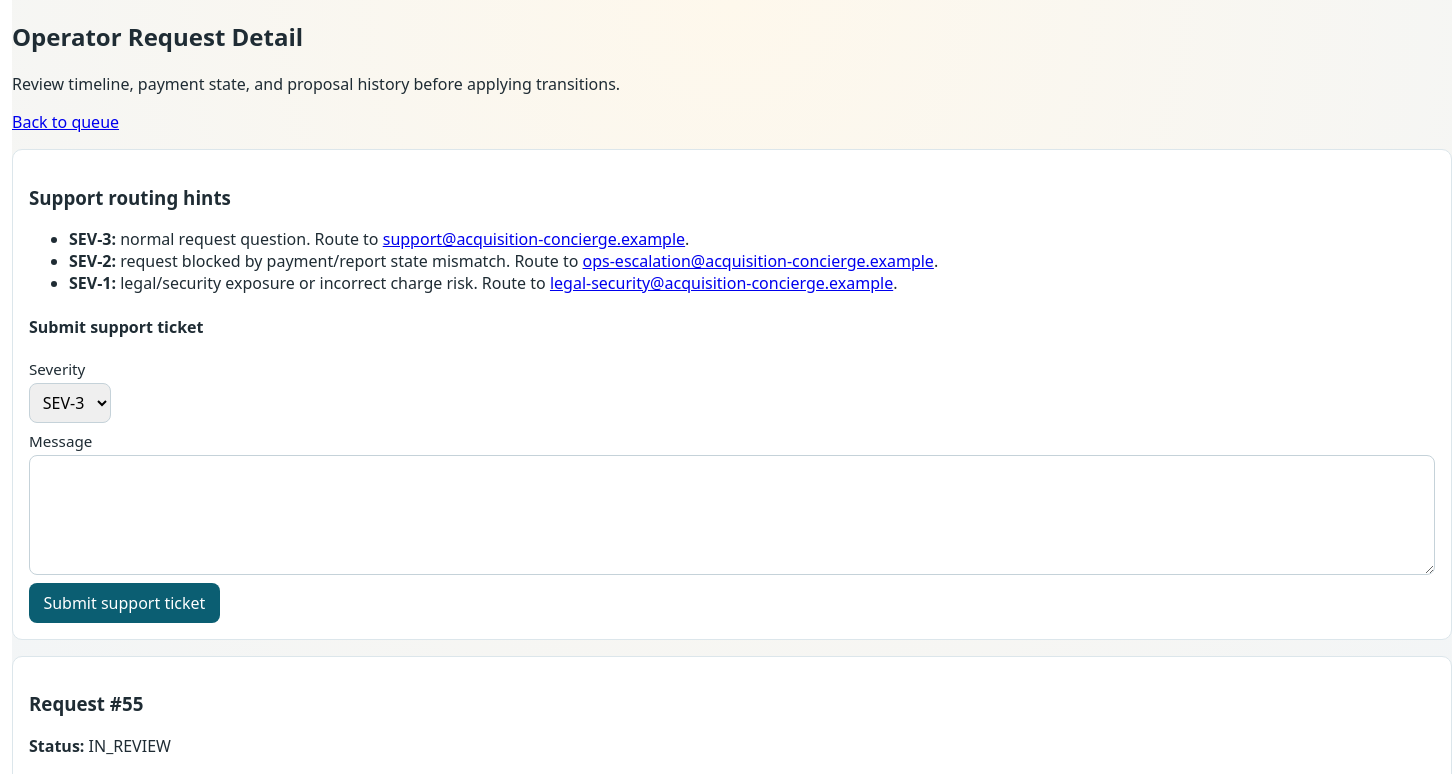
Test: OperatorRequestDetailPage › submits support ticket from operator detail and renders success copy
Expected: the heading "Request #55" is shown, [29,692,143,716]
Select "SEV-2" in the dropdown labelled "Severity": (70, 403) [29,383,111,423]
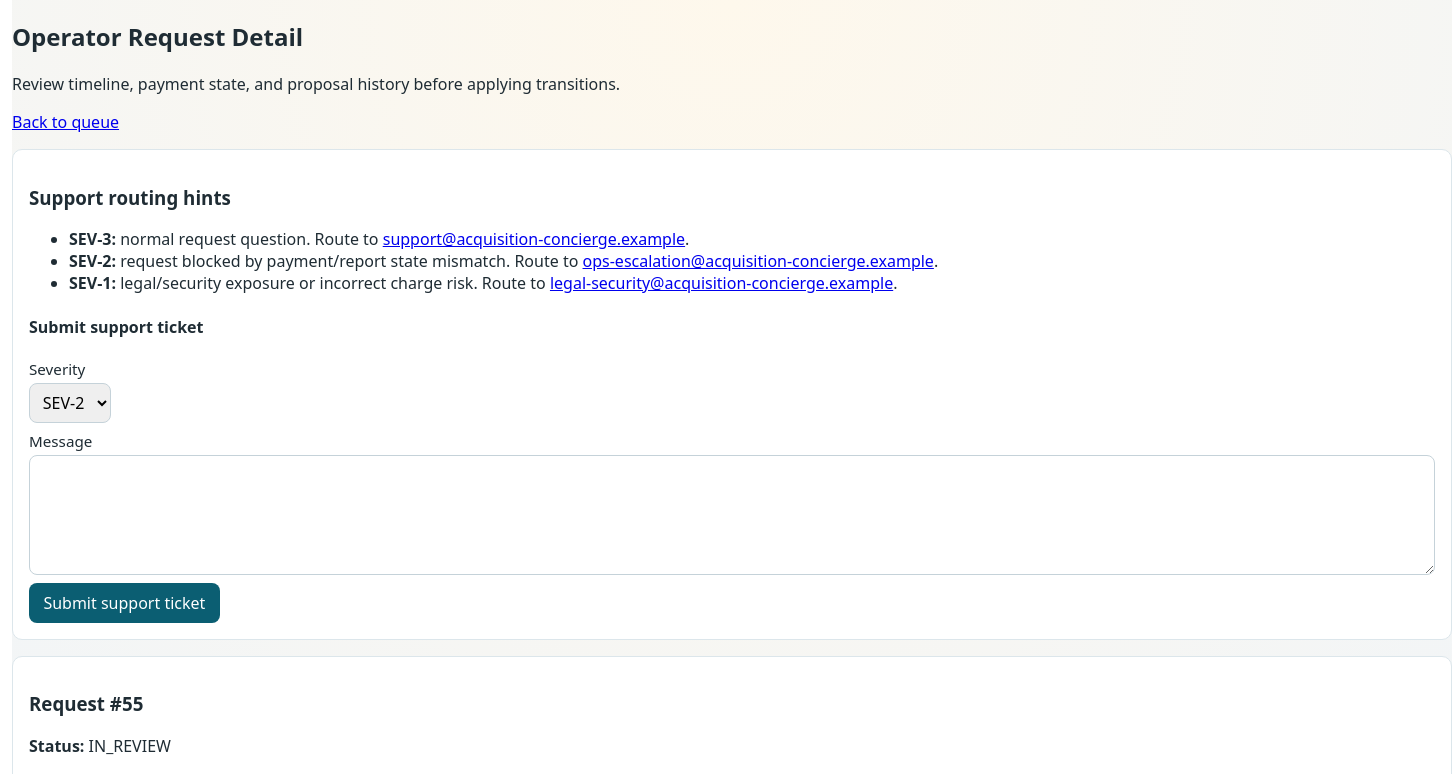
In the text box labelled "Message": (732, 515) [29,455,1435,575], type "Payment status and report delivery state are inconsistent in detail view."
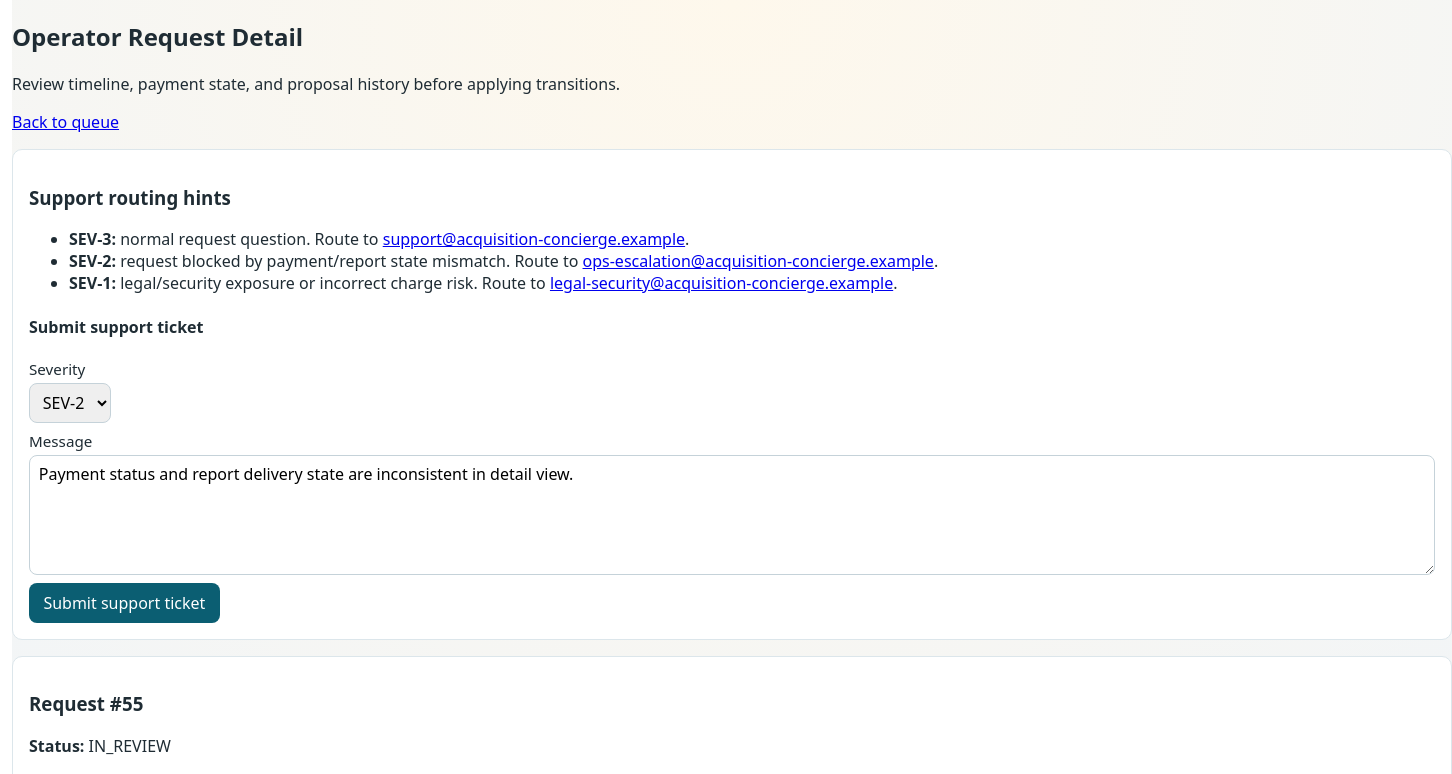
Click the button "Submit support ticket": (124, 603) [29,583,220,623]
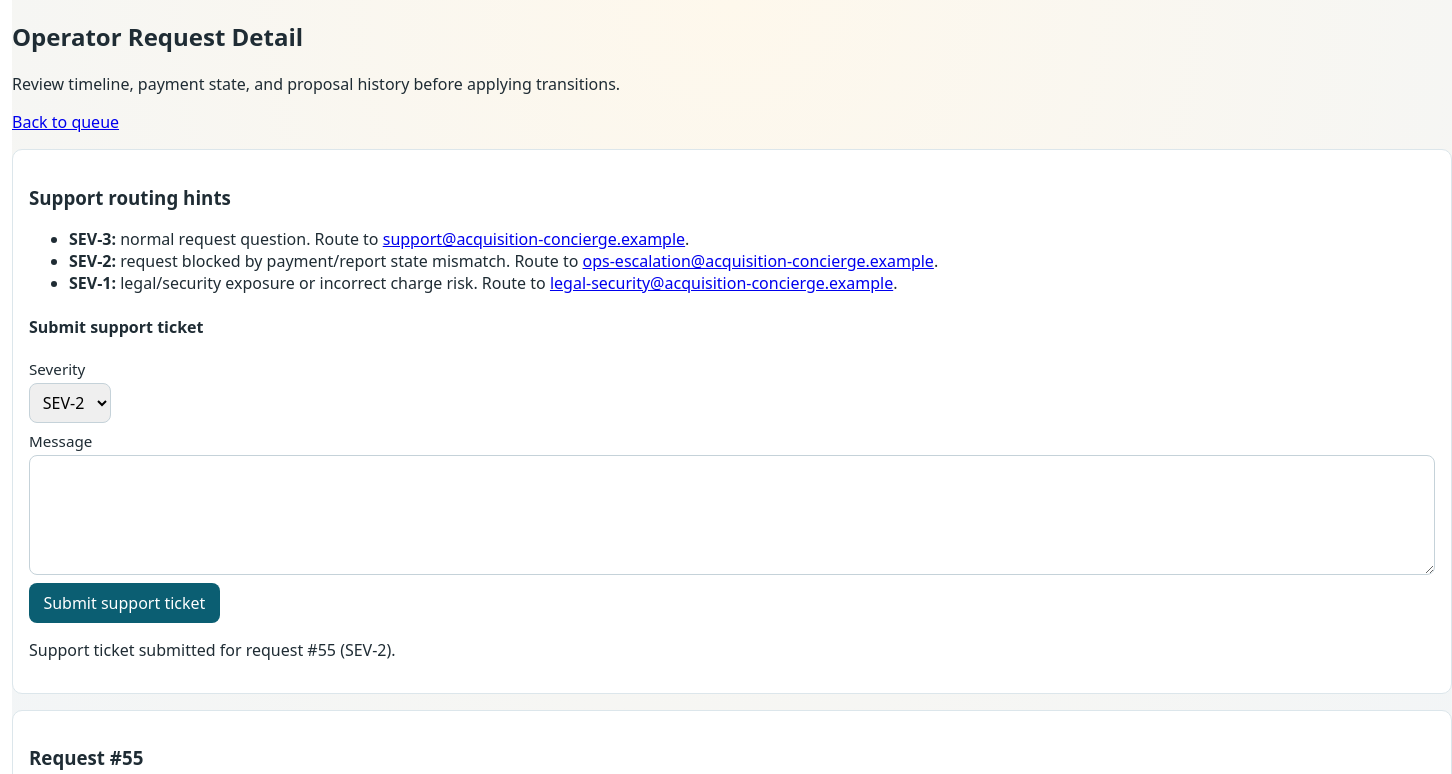
Now the text "Support ticket submitted for request #55 (SEV-2)." is shown, box [29,639,396,661]
